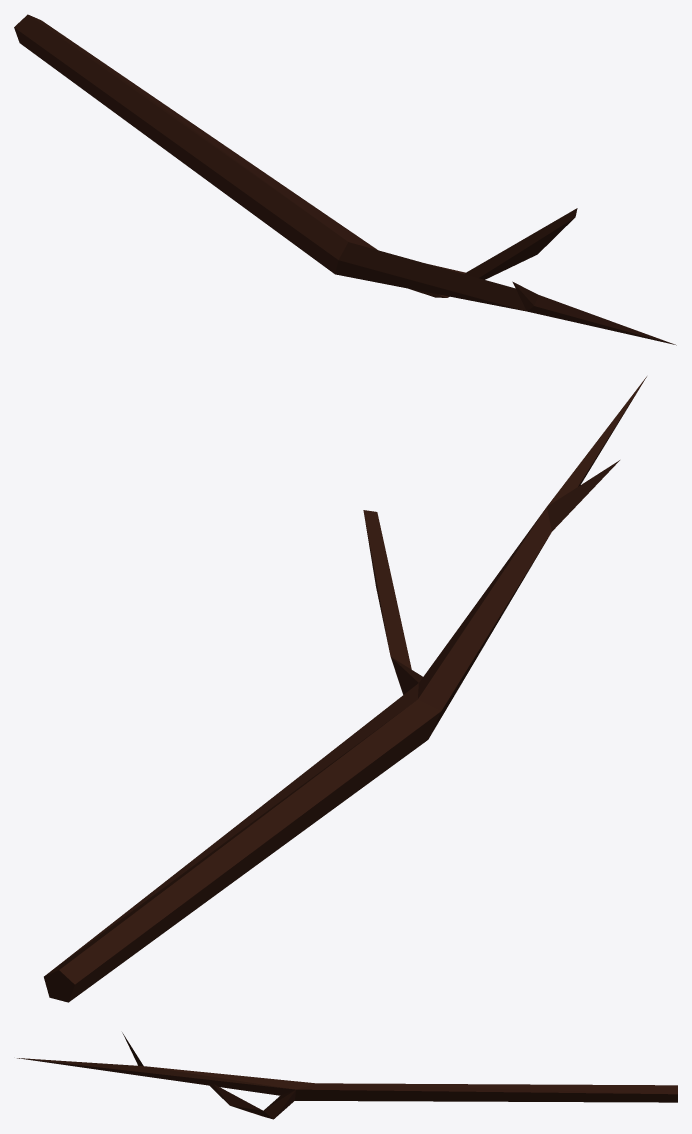
Rendered from Stick.gltf.
The picture shows the model from 3 angles, top to bottom: view 1: azimuth 30°, elevation 25°; view 2: azimuth 150°, elevation 25°; view 3: azimuth 270°, elevation 25°; orthographic projection. The views are drawn at different scales.
Visible parts, largest first — view 1: Cylinder; view 2: Cylinder; view 3: Cylinder.
Part boxes in pixels (x1,y1,x2,y2): Cylinder: (14,14,676,345); Cylinder: (44,376,646,1002); Cylinder: (17,1032,677,1119).
Bounding box in the file's own units: 0.9669 × 0.7613 × 6.32.
